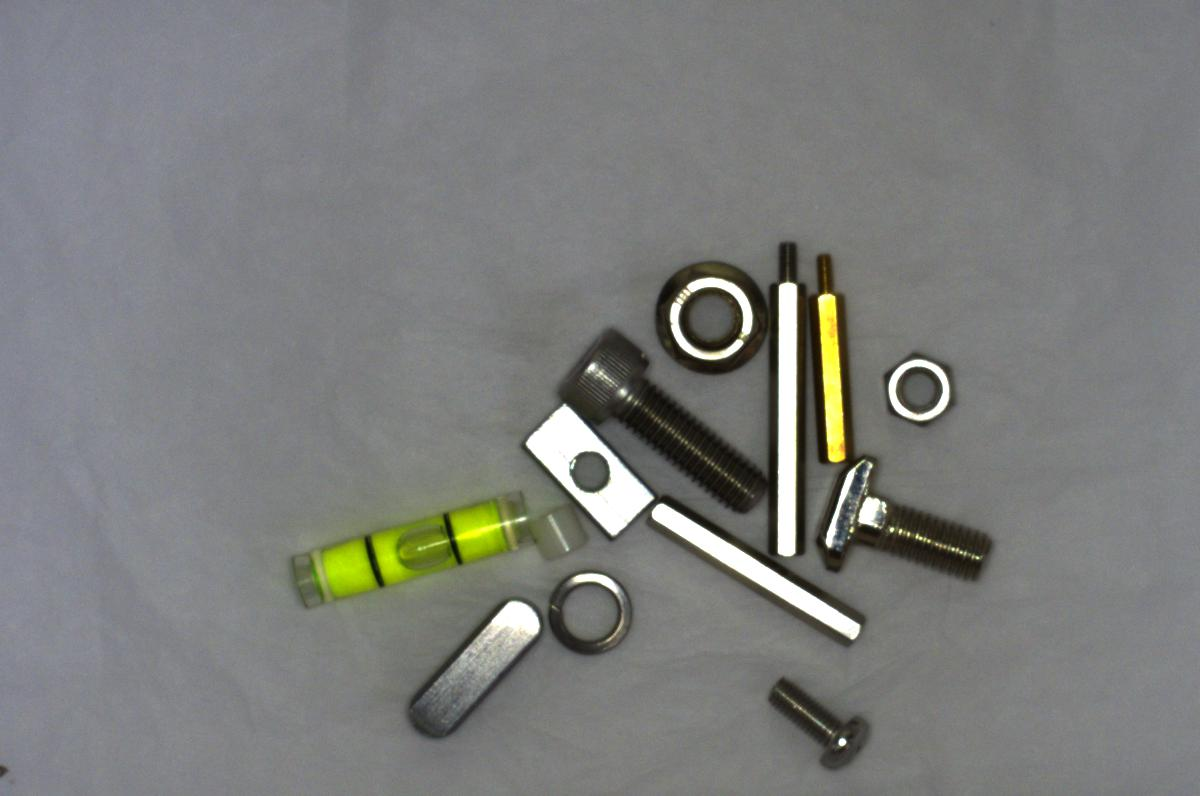Double hexagonal column: (639, 499, 867, 645)
Flange nut: (641, 244, 765, 385)
Hexagon nut: (879, 346, 961, 433)
Hexagon pillar: (807, 230, 866, 472)
Hexagon screw: (557, 326, 761, 519)
Hexagonal steel column: (751, 226, 814, 565)
Horizontal bubble: (296, 496, 534, 605)
Keybar: (405, 592, 548, 745)
Plastic cushion pillar: (533, 498, 585, 565)
Rectangular nut: (528, 395, 660, 537)
Round head screw: (762, 673, 887, 772)
Spring washer: (543, 563, 638, 663)
T-shaped screw: (800, 449, 1006, 582)
